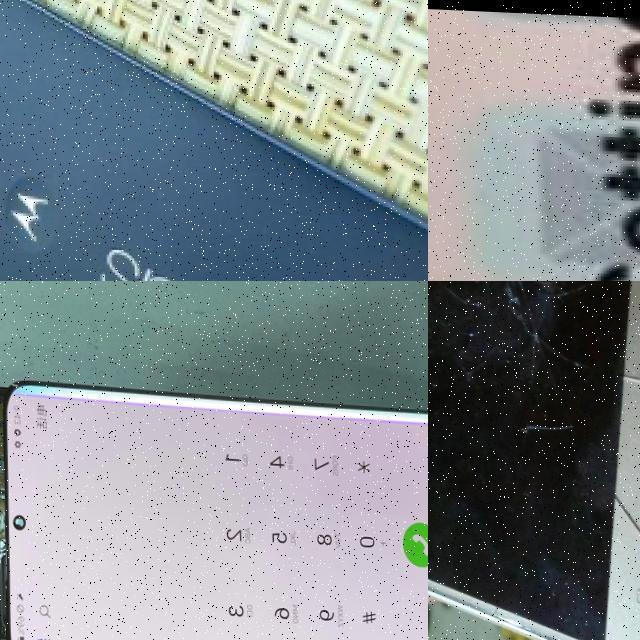screen crack: (428, 281, 640, 598)
